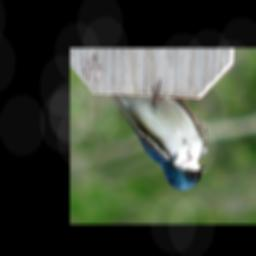Swallow: (109, 78, 210, 192)
